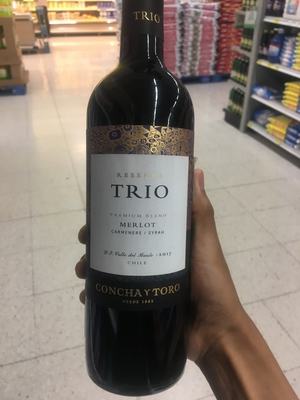trio merlot: (66, 20, 218, 374)
